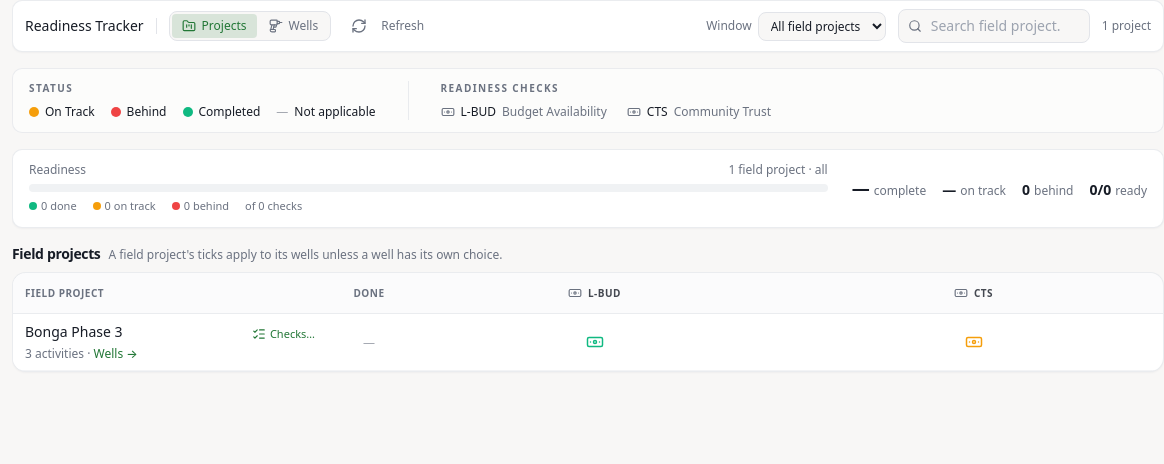
TeamReadinessGrid › has the Project gates page's toolbar: its title, Refresh, the window, search and a count
The width and height of the screenshot is (1164, 464).
Expected: the element "Field projects" is shown, [12, 244, 1163, 372]
Expected: the text "Readiness Tracker" is shown, [25, 16, 144, 36]
Click the radio button labelled "Wells" at (293, 26), box [258, 14, 328, 38]
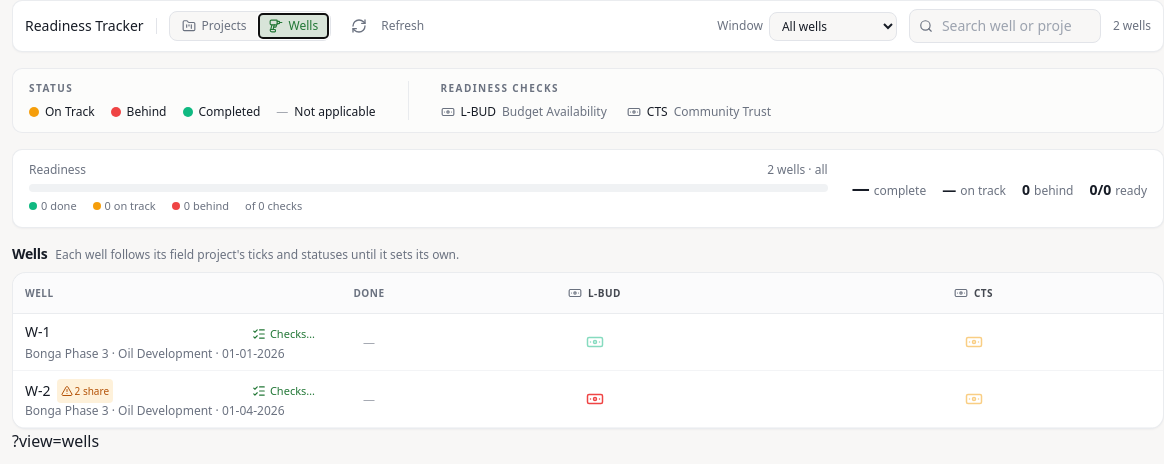
Result: the text with test id "readiness-count" reads "2 wells" at [1113, 17, 1151, 34]
Type "W-2" into the field named "Search wells and field projects" at (1005, 26), box [909, 9, 1101, 43]
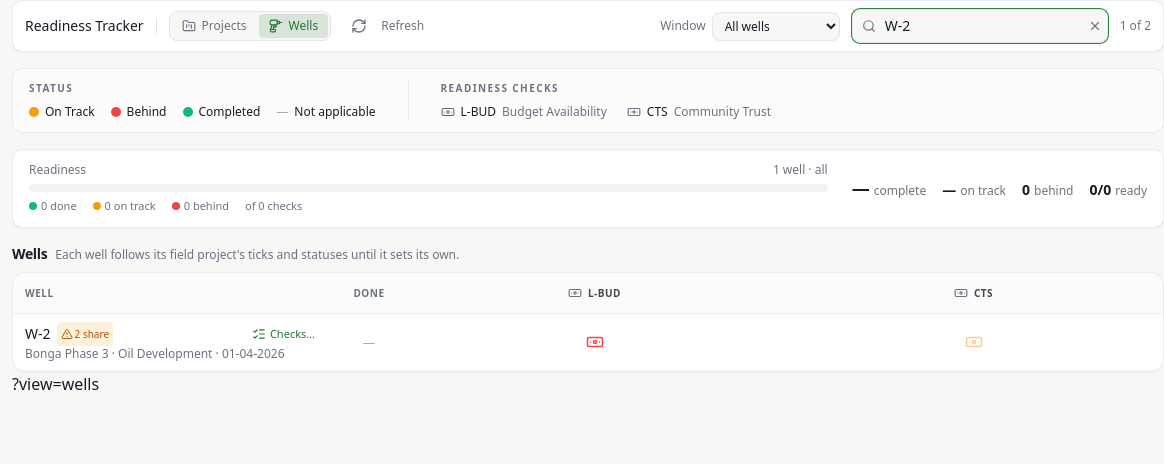
Result: the text with test id "readiness-count" reads "1 of 2" at [1120, 17, 1151, 34]
